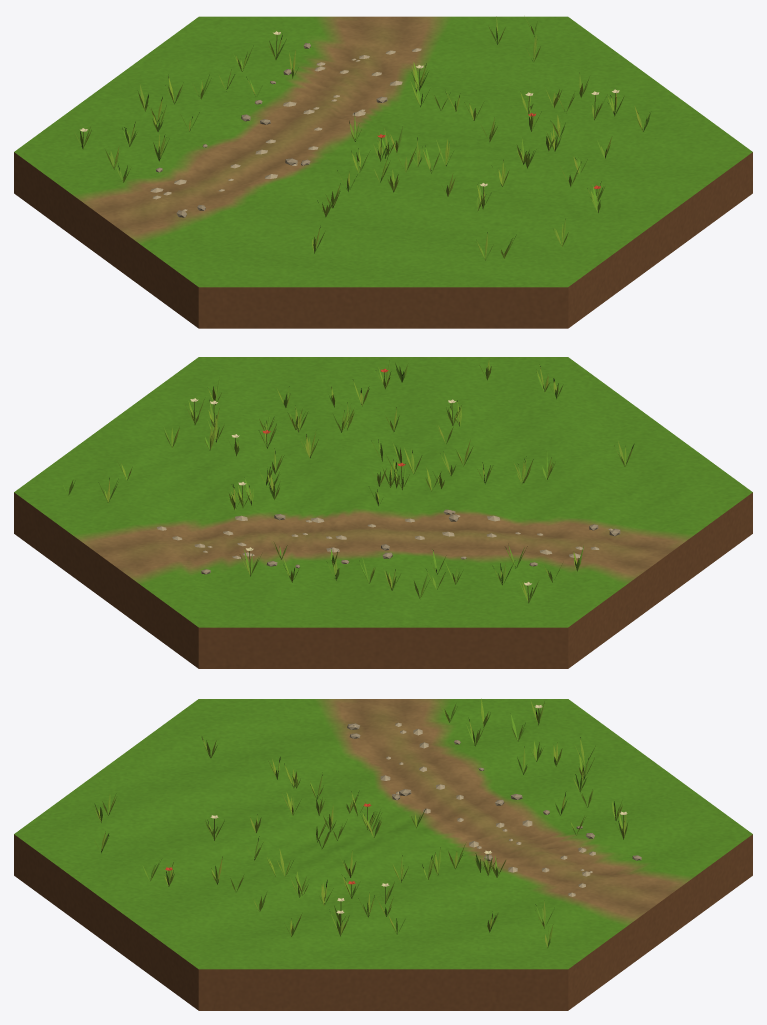
Rendered from SM_CaminoNatural_Curva_Detalle_LOD0.fbx.
3 renders of one model, top to bottom at view 1: azimuth 30°, elevation 25°; view 2: azimuth 150°, elevation 25°; view 3: azimuth 270°, elevation 25°, orthographic.
Visible parts, largest first — view 1: SM_CaminoNatural_Curva_Detalle_LOD0; view 2: SM_CaminoNatural_Curva_Detalle_LOD0; view 3: SM_CaminoNatural_Curva_Detalle_LOD0.
Part boxes in pixels (bbox=[...]): SM_CaminoNatural_Curva_Detalle_LOD0: bbox=[14, 16, 752, 328]; SM_CaminoNatural_Curva_Detalle_LOD0: bbox=[14, 357, 752, 668]; SM_CaminoNatural_Curva_Detalle_LOD0: bbox=[14, 698, 752, 1010].
Size of the model in its own units: 1.68 by 0.2006 by 1.94.
Materials: 1 (1 with a texture image).
